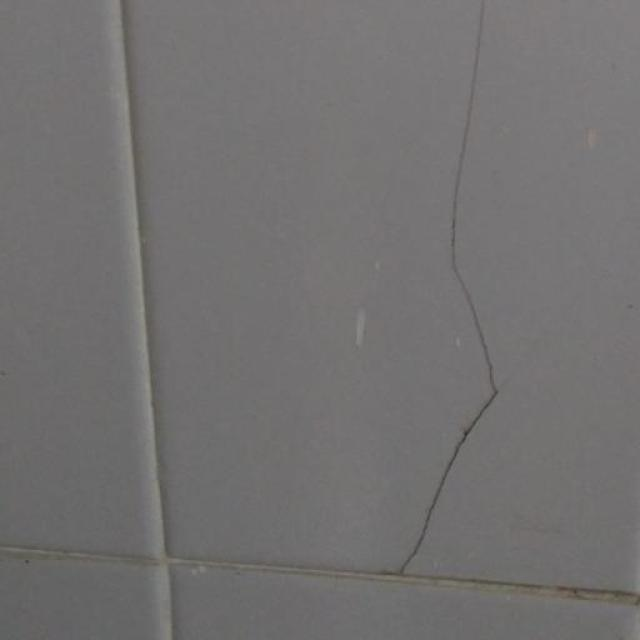minor_crack: (420, 0, 539, 584), (400, 0, 498, 574)
